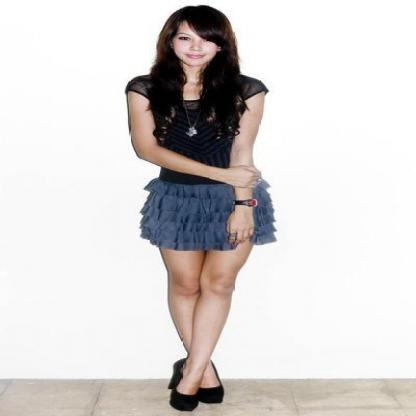shirt: (125, 75, 268, 186)
shoe: (168, 358, 224, 410)
skirt: (140, 177, 276, 254)
